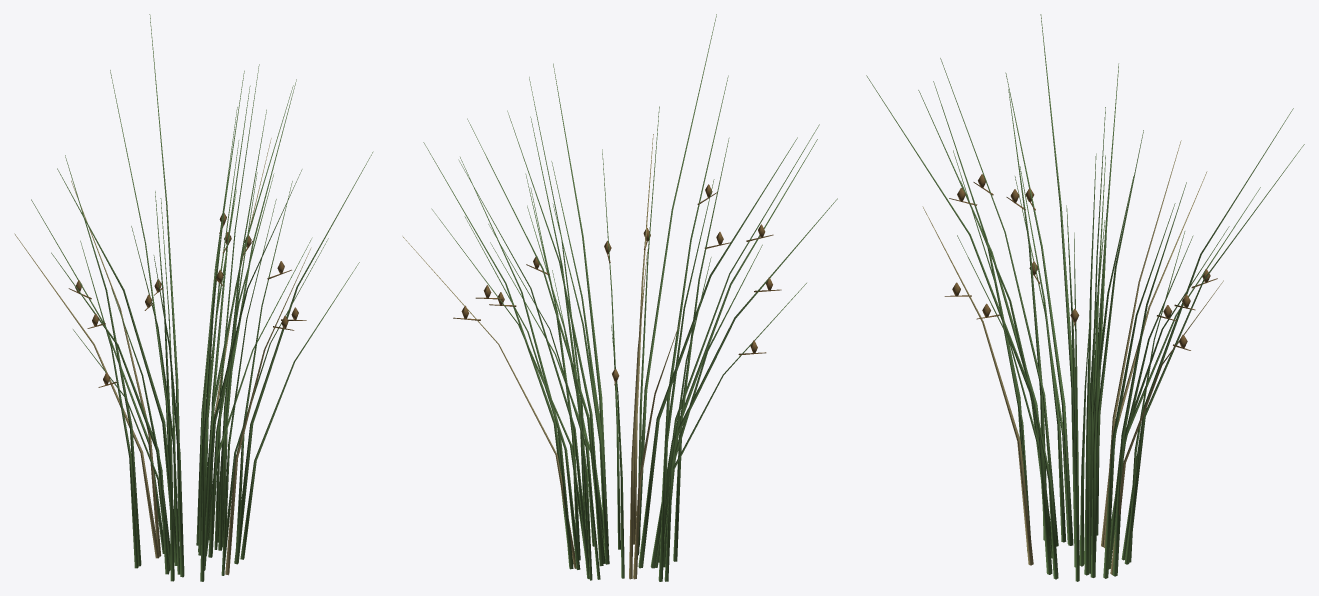
The model's file is Woodland_Rush_Clump_01_LOD1.fbx.
3 views of the same model, side by side, from view 1: azimuth 30°, elevation 25°; view 2: azimuth 150°, elevation 25°; view 3: azimuth 270°, elevation 25° (orthographic). The views are drawn at different scales.
Parts seen in each view (by area): view 1: Woodland_Rush_Clump_01_LOD1_Foliage; view 2: Woodland_Rush_Clump_01_LOD1_Foliage; view 3: Woodland_Rush_Clump_01_LOD1_Foliage.
Boxes of the visible parts, x1,y1,x2,y2 form: Woodland_Rush_Clump_01_LOD1_Foliage: (14,14,373,581); Woodland_Rush_Clump_01_LOD1_Foliage: (402,14,837,581); Woodland_Rush_Clump_01_LOD1_Foliage: (866,14,1304,581).
Size of the model in its own units: 61.29 by 84.03 by 67.8.
